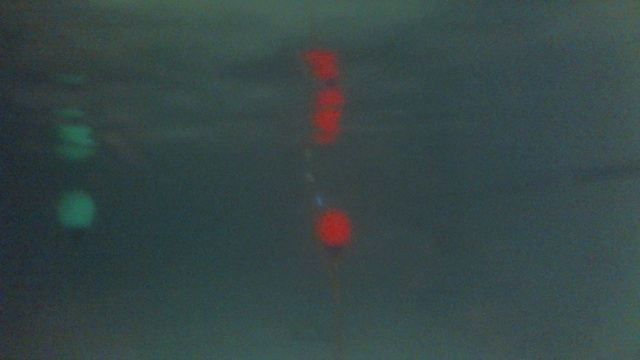buoy_green: (56, 187, 94, 245)
buoy_red: (313, 209, 349, 252)
